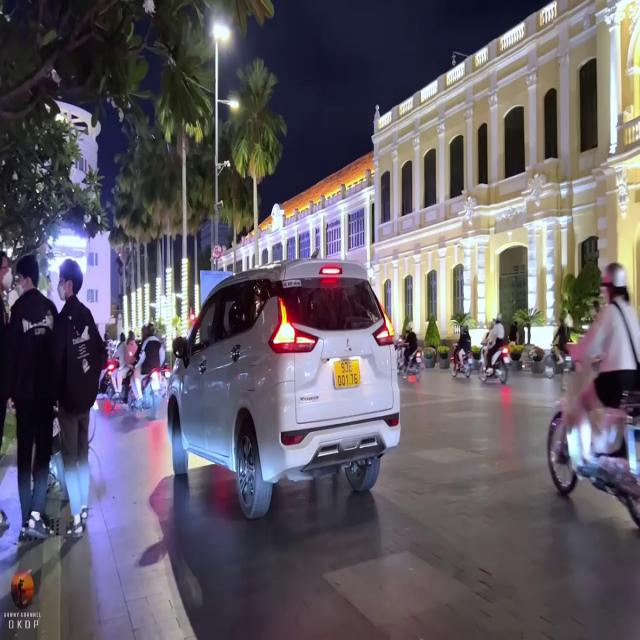bien_vang: (328, 356, 363, 390)
